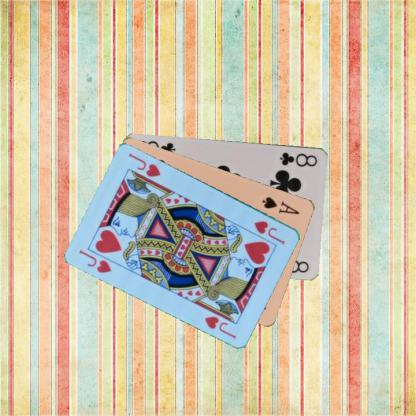8c: (277, 150, 319, 167)
As: (259, 194, 301, 216)
Jh: (77, 247, 113, 274), (252, 218, 286, 246)
